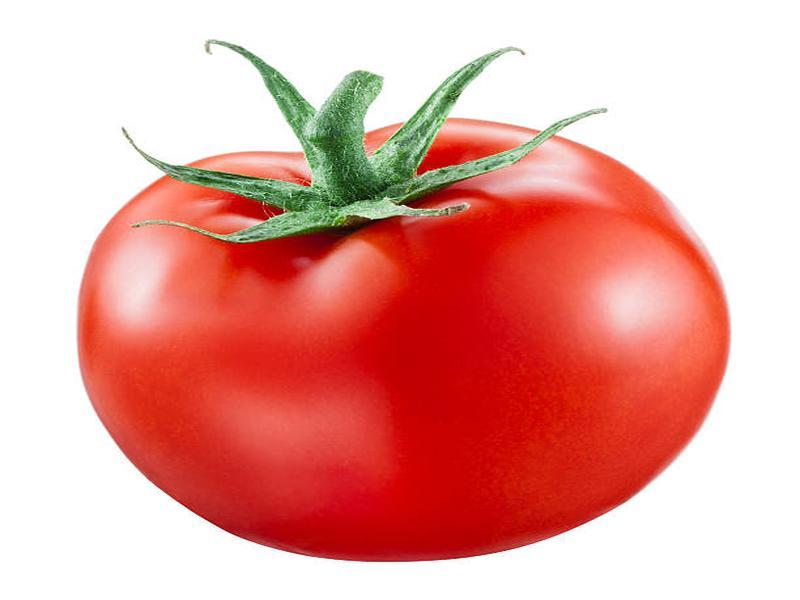full_tomato: (75, 28, 737, 568)
